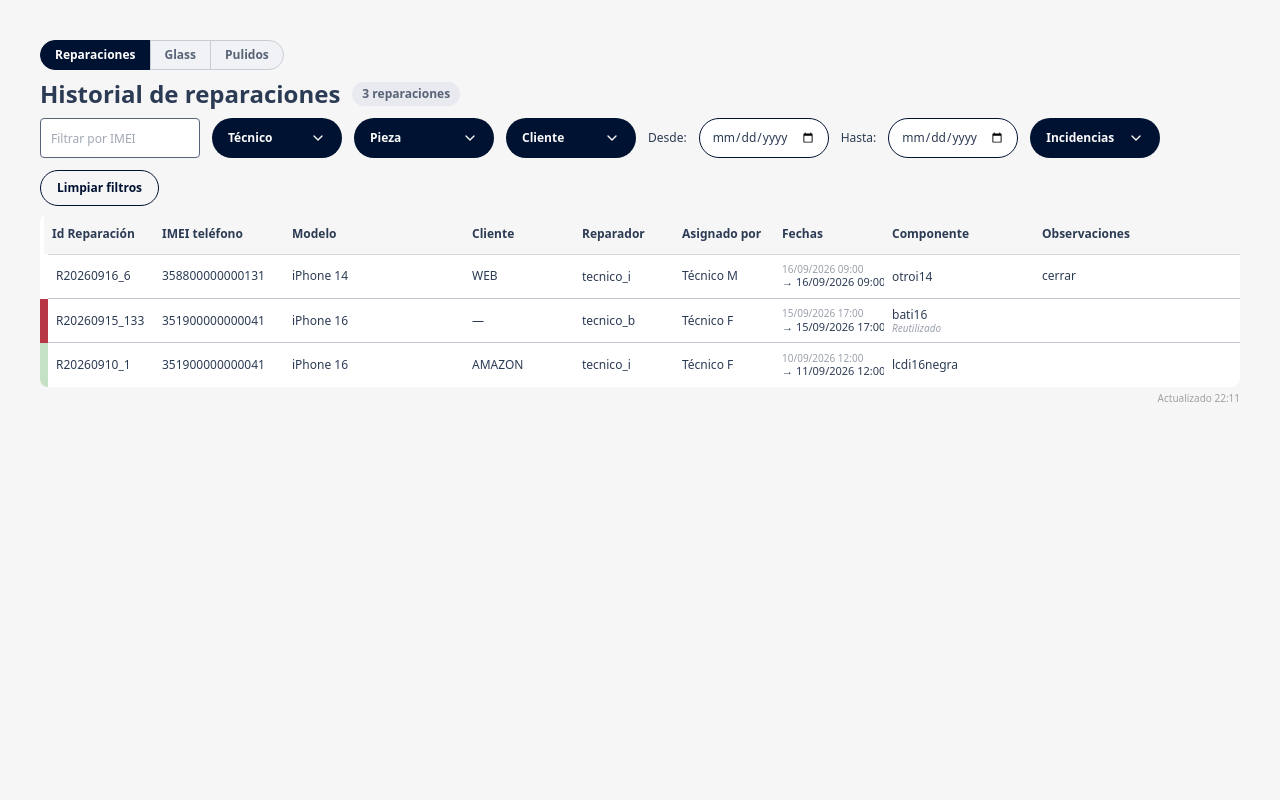
Test: HistorialPage (ficha docs/paridad/historial.md) › filtro Cliente: clientes de lo cargado con "(Sin cliente)" delante; marcar uno deja solo sus filas; Limpiar filtros lo vacia
Expected: the text "R20260915_133" is shown, [44,298,154,342]
Click the button "Cliente" at (571, 138), box [506,118,636,158]
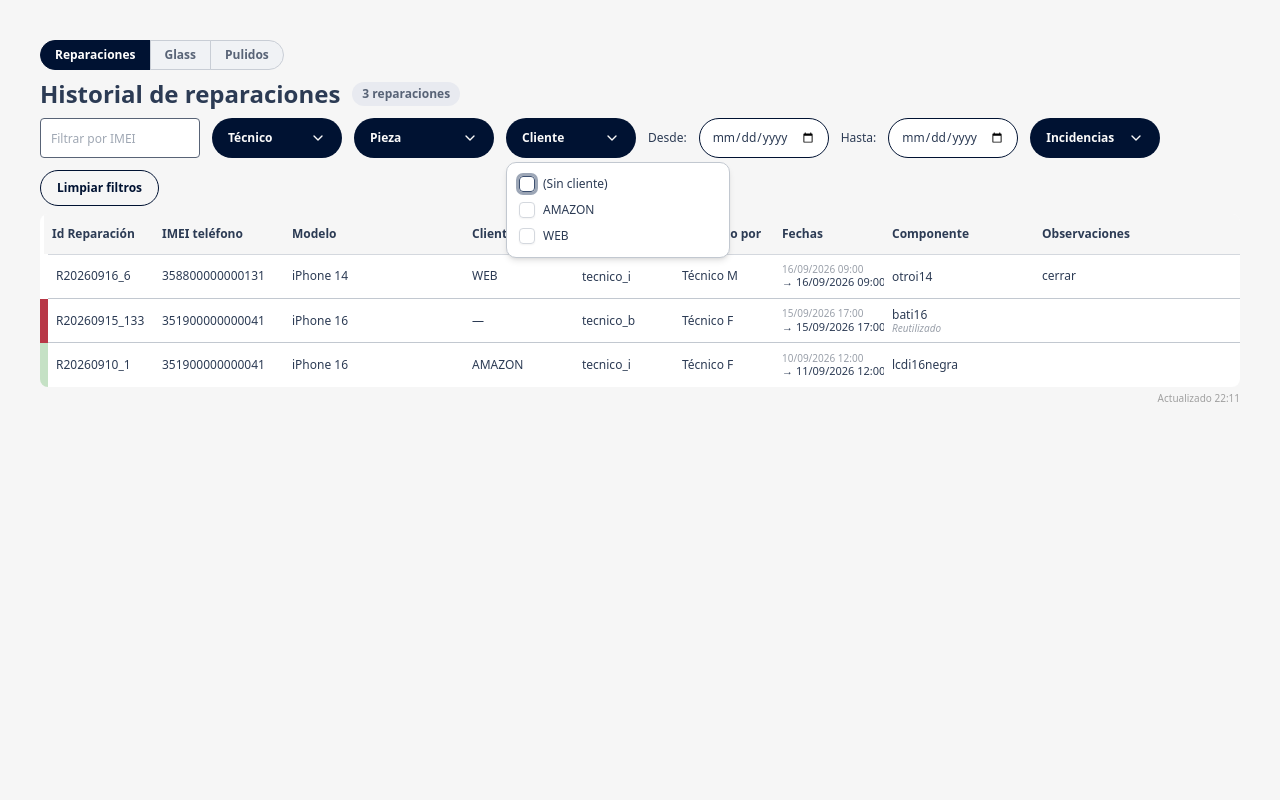
Click the checkbox named "WEB" at (527, 236), box [519,228,535,244]
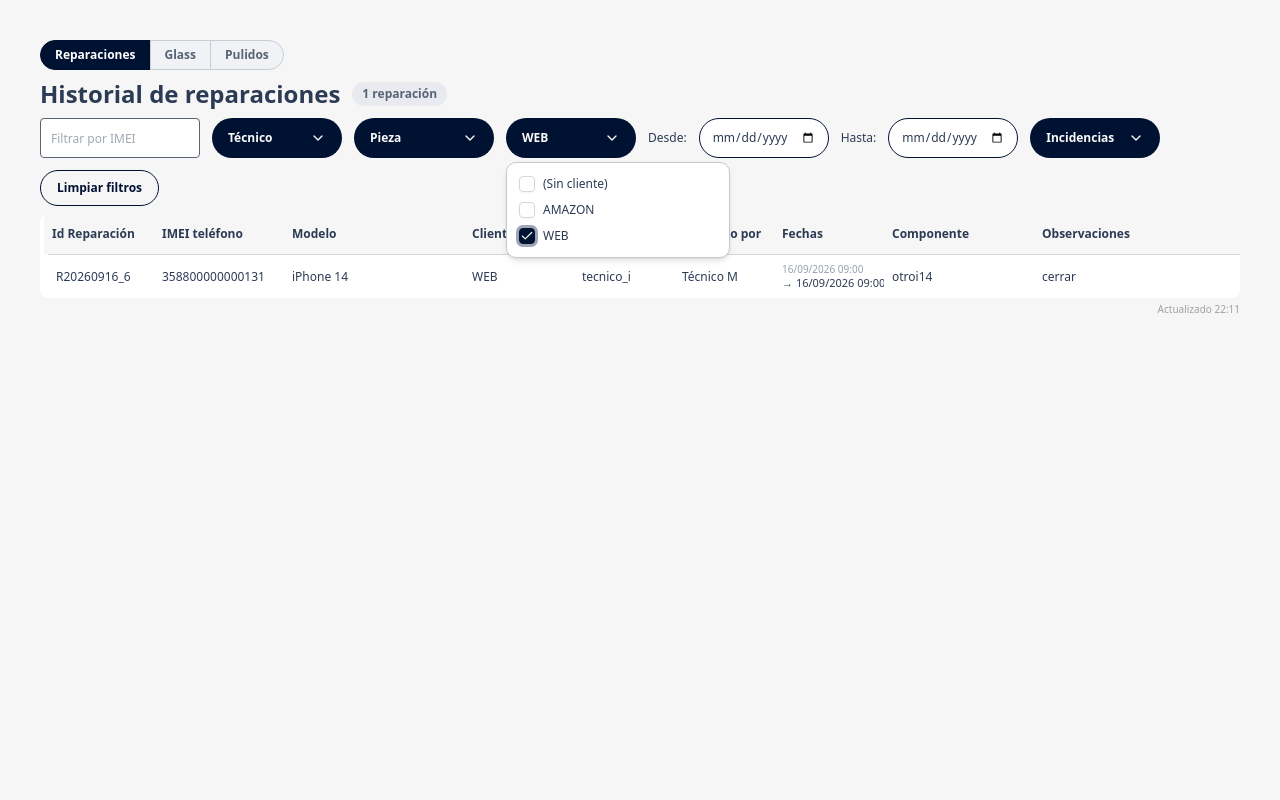
Press Escape
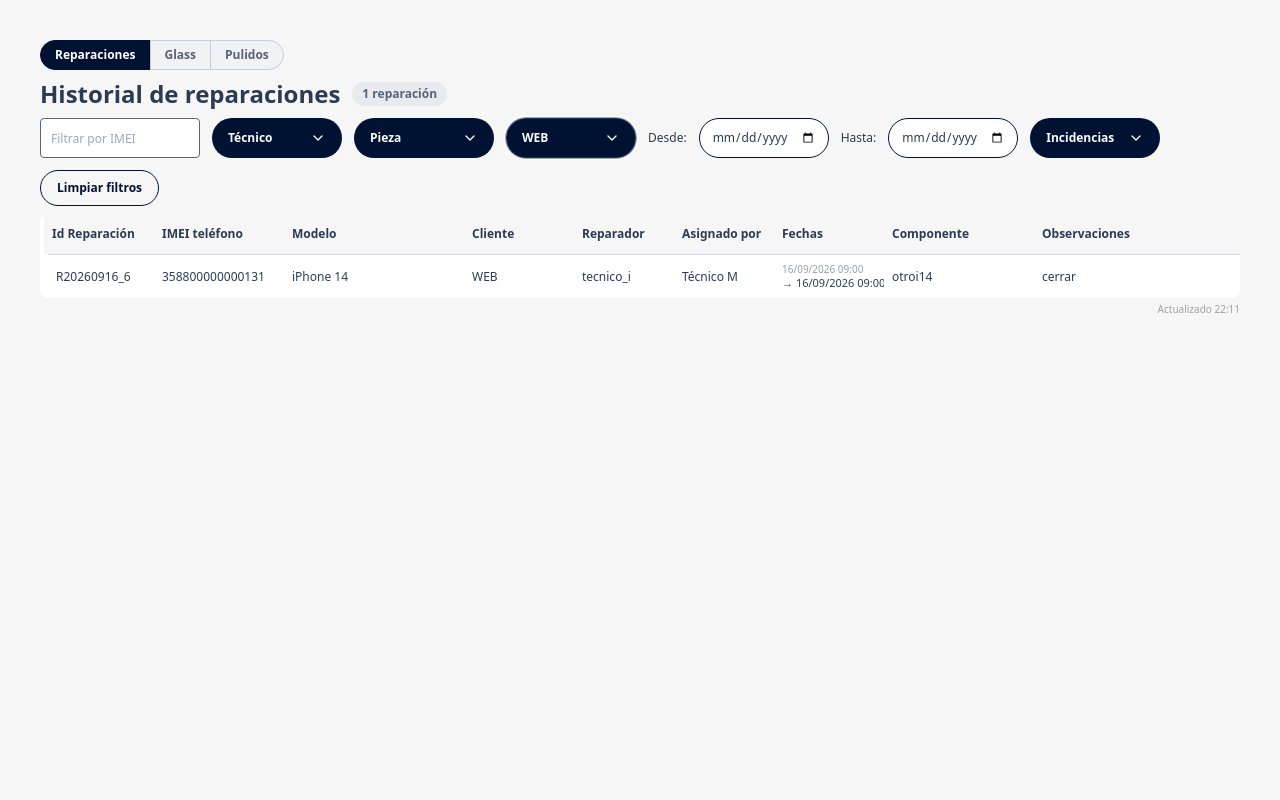
Expected: the number of rows is 2, [44,214,1240,254]; [44,254,1240,298]
Expected: the text "R20260916_6" is shown, [44,254,154,298]
Click the button "Limpiar filtros" at (100, 188), box [40,170,159,206]
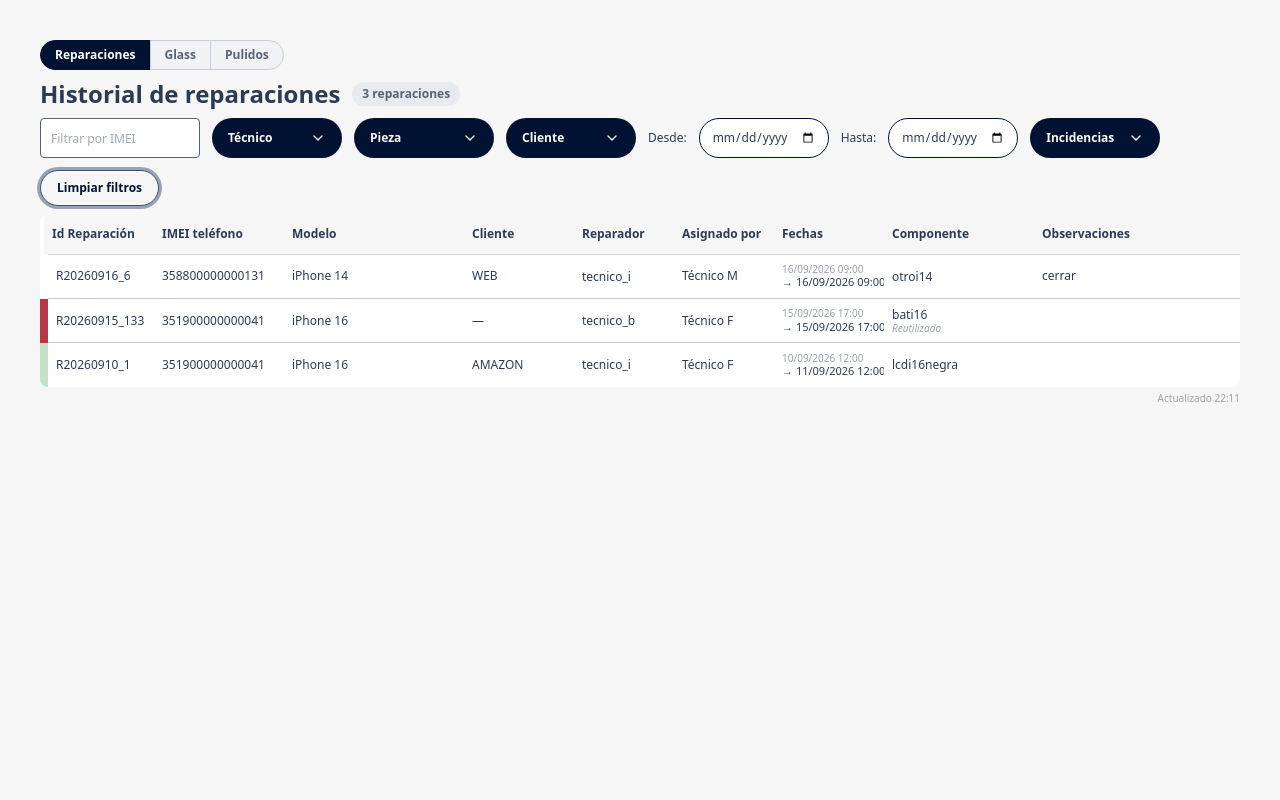
Expected: the number of rows is 4, [44,214,1240,254]; [44,254,1240,298]; [44,298,1240,342]; [44,342,1240,386]
Expected: the button "Cliente" is shown, [506,118,636,158]
